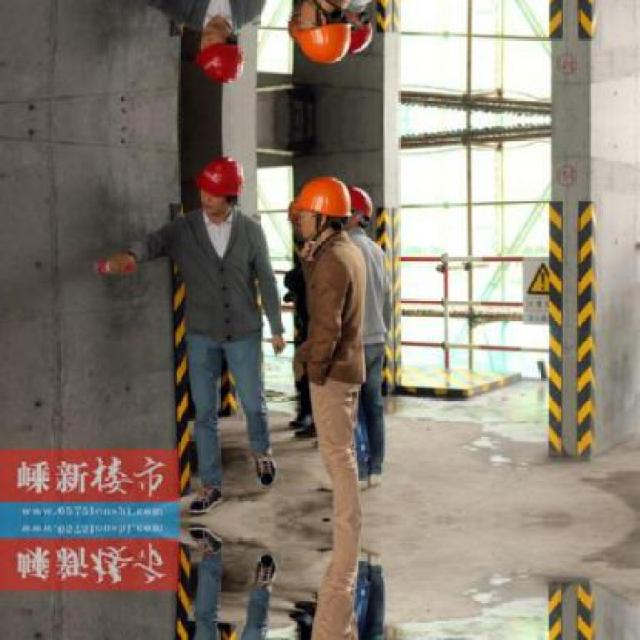helmet: (286, 0, 352, 63), (286, 175, 351, 238), (191, 154, 249, 218), (191, 19, 249, 82), (338, 182, 376, 233), (338, 4, 376, 54)
